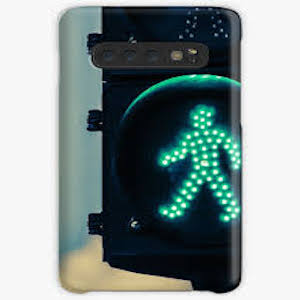green: (146, 102, 247, 221)
